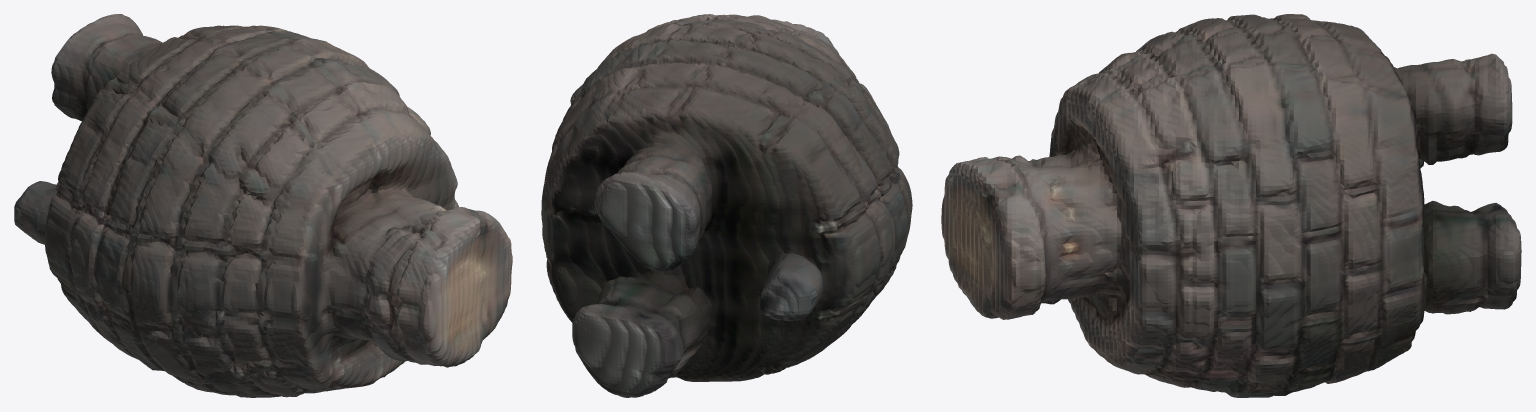
File: enemy_spitter_triposr.glb
3 views of the same model, side by side, from view 1: azimuth 30°, elevation 25°; view 2: azimuth 150°, elevation 25°; view 3: azimuth 270°, elevation 25° (orthographic). The views are drawn at different scales.
Visible parts, largest first — view 1: geometry_0; view 2: geometry_0; view 3: geometry_0.
Boxes of the visible parts, <box> form: geometry_0: <box>14,14,512,397</box>; geometry_0: <box>541,14,912,397</box>; geometry_0: <box>941,14,1521,397</box>.
Bounding box in the file's own units: 0.6502 × 0.6038 × 0.94.
